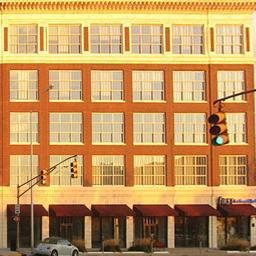building: (0, 0, 256, 247)
